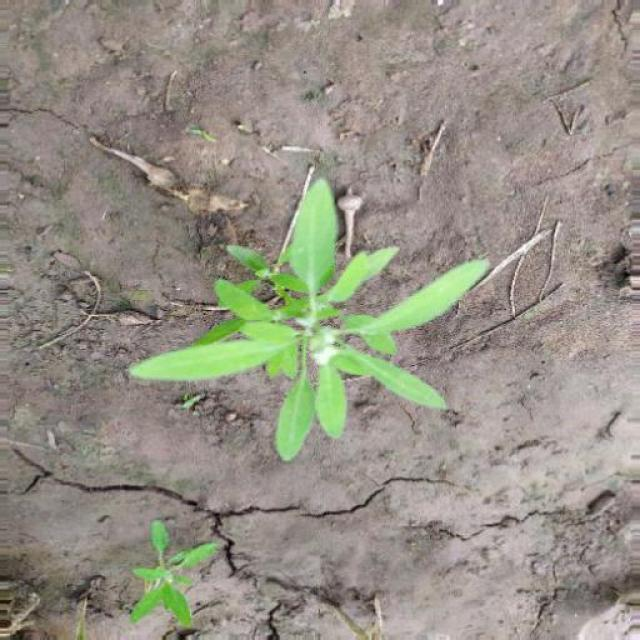weed: (129, 179, 511, 470), (114, 509, 228, 636)
